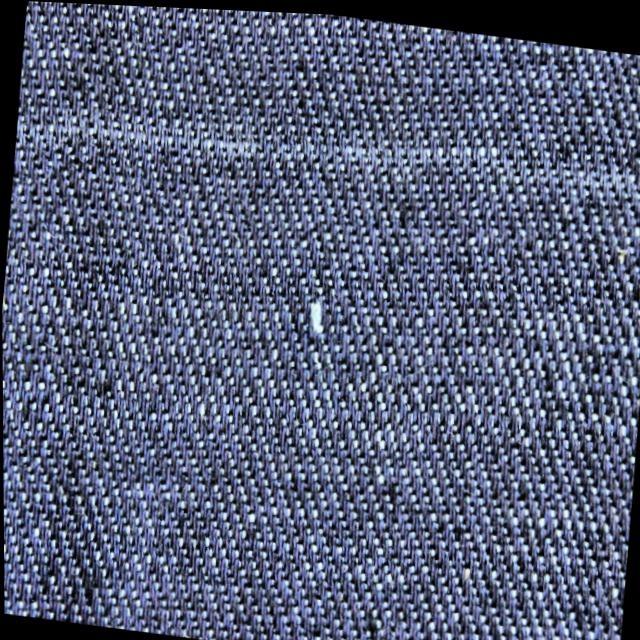Hole: (288, 269, 347, 369)
